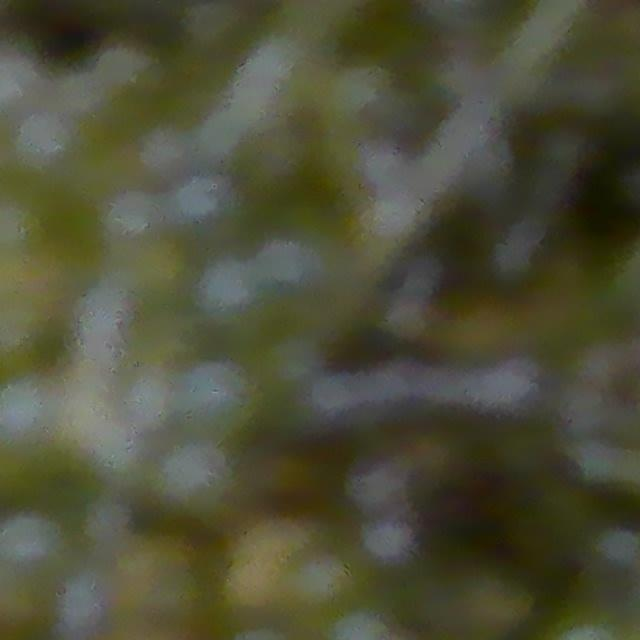SeaGrape: (150, 436, 240, 524), (176, 358, 254, 435), (0, 375, 70, 460), (278, 544, 357, 616), (0, 507, 67, 575), (13, 110, 74, 170)
